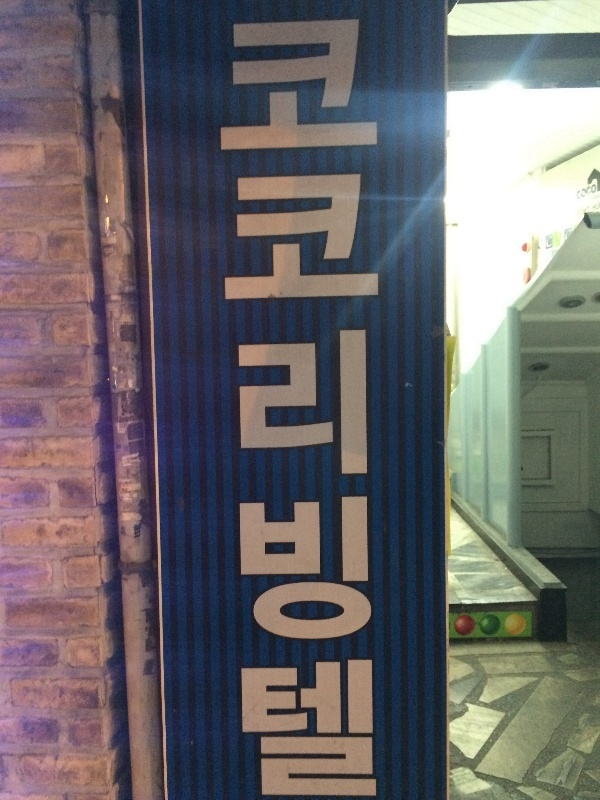text: (225, 16, 240, 800), (241, 16, 256, 800), (257, 16, 272, 800), (273, 16, 288, 800), (289, 16, 304, 800), (305, 16, 320, 800), (321, 16, 336, 800), (337, 16, 352, 800), (353, 16, 368, 800), (369, 16, 382, 800), (219, 16, 224, 800), (577, 184, 592, 202), (593, 184, 597, 202)
